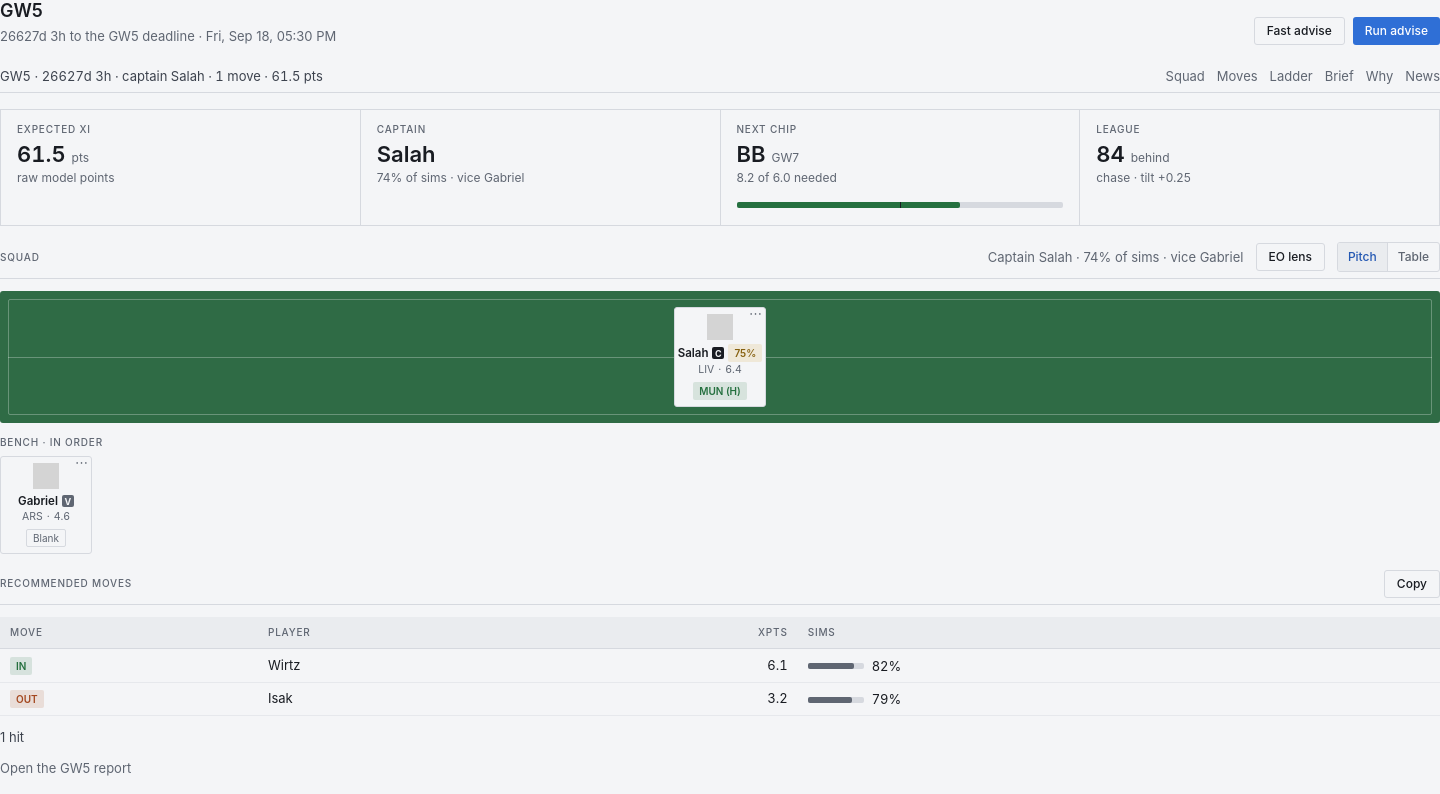
This Week hub › lists the squad with EO from the players endpoint
Click the button "Table" at (1413, 257), box [1388,243,1439,271]
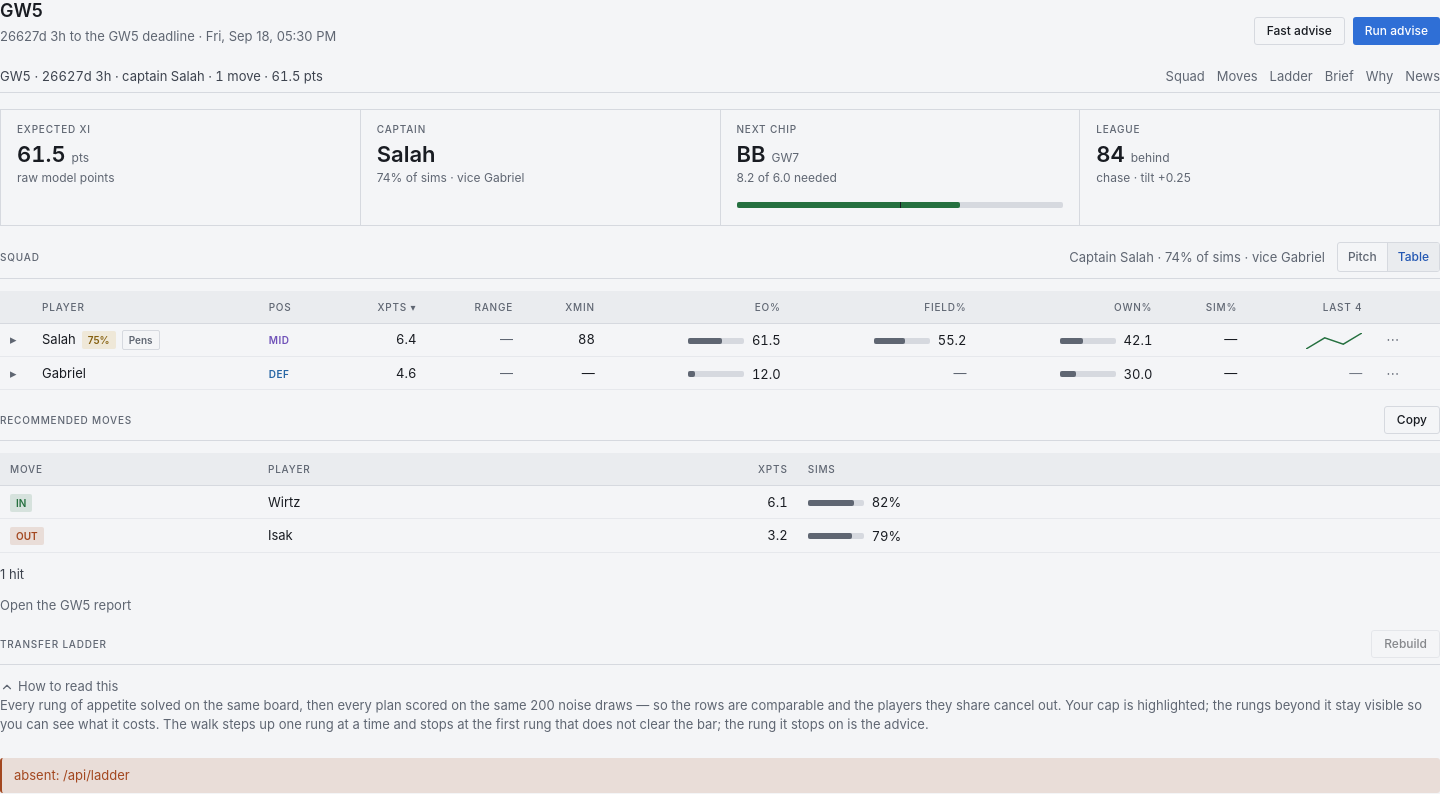
Expected: the text "61.5" in the row of "75%" is shown, [752,332,781,348]
